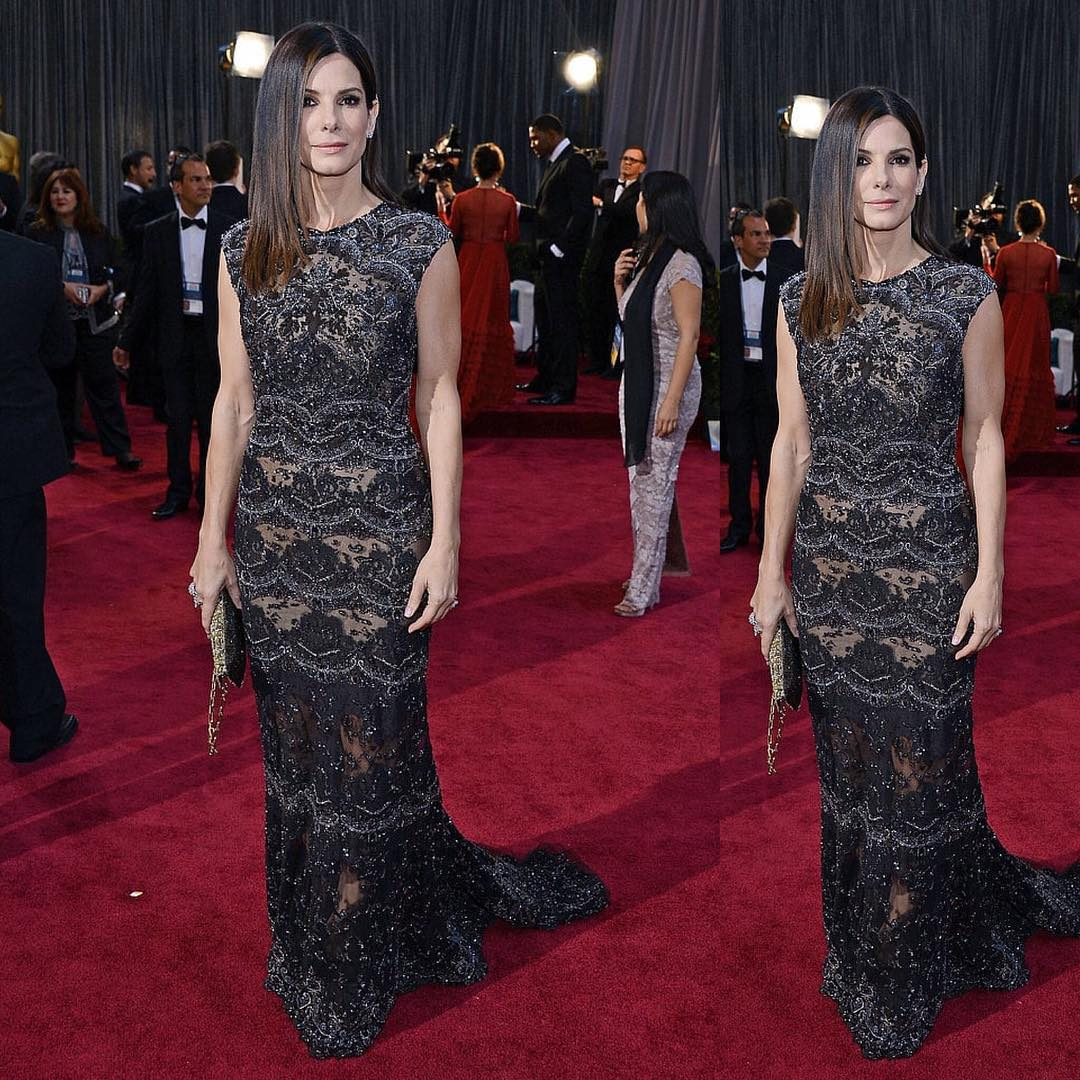hand: (407, 537, 451, 622)
